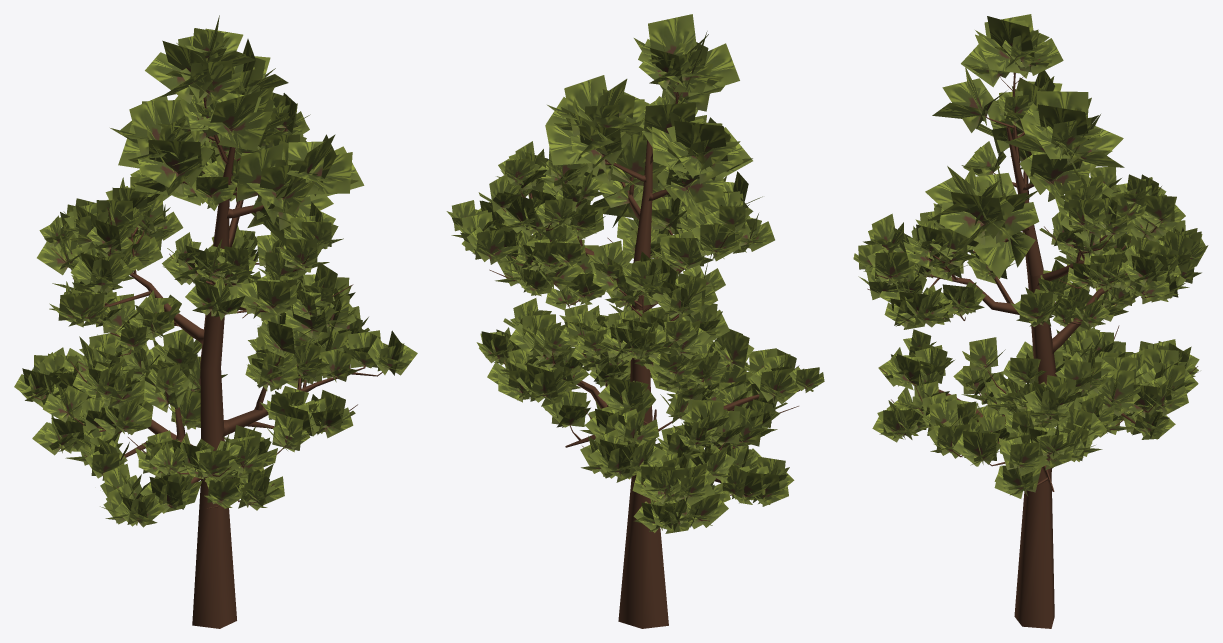
File: Pine_Tree_1.fbx
3 views of the same model, side by side, from view 1: azimuth 30°, elevation 25°; view 2: azimuth 150°, elevation 25°; view 3: azimuth 270°, elevation 25° (orthographic). The views are drawn at different scales.
Parts seen in each view (by area): view 1: Pine_Tree_1; view 2: Pine_Tree_1; view 3: Pine_Tree_1.
Part boxes in pixels (x1=…): Pine_Tree_1: x1=14, y1=15, x2=417, y2=628; Pine_Tree_1: x1=446, y1=14, x2=824, y2=628; Pine_Tree_1: x1=853, y1=14, x2=1208, y2=628.
Size of the model in its own units: 499 by 938 by 509.
Materials: 2 (2 with a texture image).
